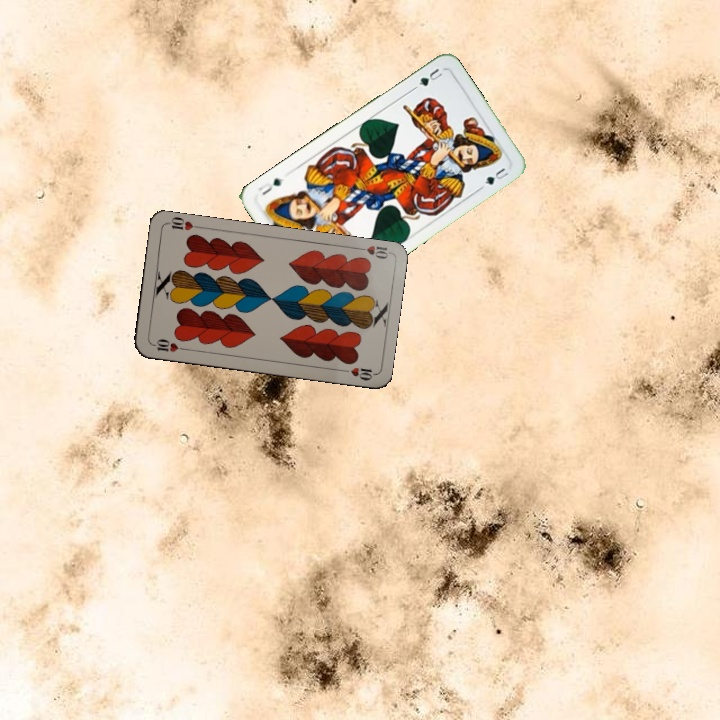GU: (414, 64, 445, 89)
H10: (148, 335, 189, 355), (352, 242, 392, 262)
